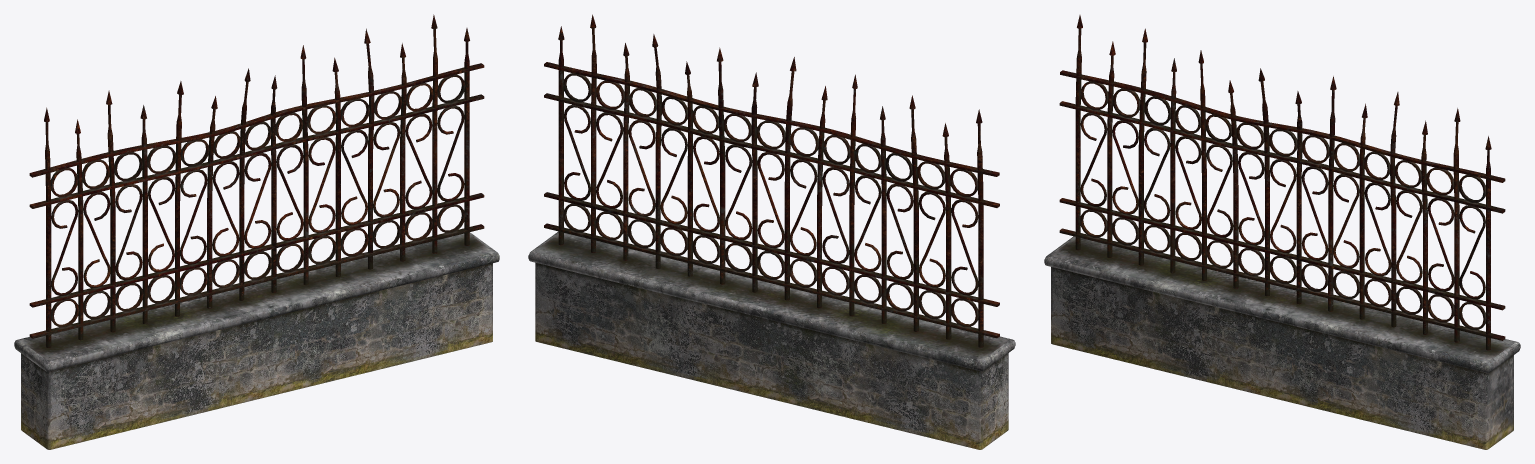
File: SM_fence_10.fbx
The picture shows the model from 3 angles, left to right: view 1: azimuth 30°, elevation 25°; view 2: azimuth 150°, elevation 25°; view 3: azimuth 330°, elevation 25°; orthographic projection. The views are drawn at different scales.
Parts seen in each view (by area): view 1: SM_fence_10; view 2: SM_fence_10; view 3: SM_fence_10.
Boxes of the visible parts, box(x1,y1,x2,y2) form: SM_fence_10: box(14, 14, 499, 449); SM_fence_10: box(528, 14, 1015, 449); SM_fence_10: box(1044, 15, 1520, 449).
Size of the model in its own units: 261 by 180 by 33.05.
